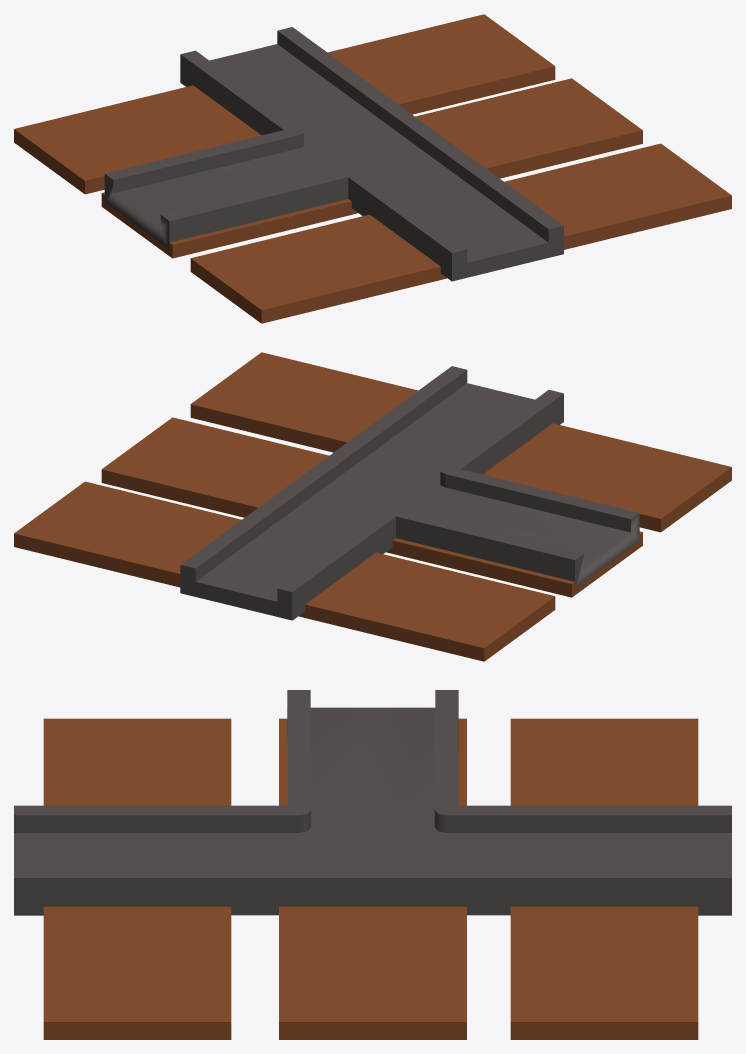
The model's file is Rail_2.fbx.
The picture shows the model from 3 angles, top to bottom: view 1: azimuth 30°, elevation 25°; view 2: azimuth 150°, elevation 25°; view 3: azimuth 270°, elevation 25°; orthographic projection. The views are drawn at different scales.
Parts seen in each view (by area): view 1: Road_2, woodbar_6, woodbar_8, woodbar_7; view 2: Road_2, woodbar_8, woodbar_6, woodbar_7; view 3: Road_2, woodbar_8, woodbar_6, woodbar_7.
Part boxes in pixels (x1,y1,x2,y2): Road_2: (104,27,563,281); woodbar_6: (190,143,731,323); woodbar_8: (14,14,555,194); woodbar_7: (101,78,642,258); Road_2: (180,366,639,620); woodbar_8: (14,481,555,661); woodbar_6: (190,352,731,532); woodbar_7: (101,417,642,597); Road_2: (14,690,731,915); woodbar_8: (510,718,698,1039); woodbar_6: (43,718,231,1039); woodbar_7: (279,718,466,1039).
Size of the model in its own units: 100 by 7.15 by 100.
1 material, 1 textured.
